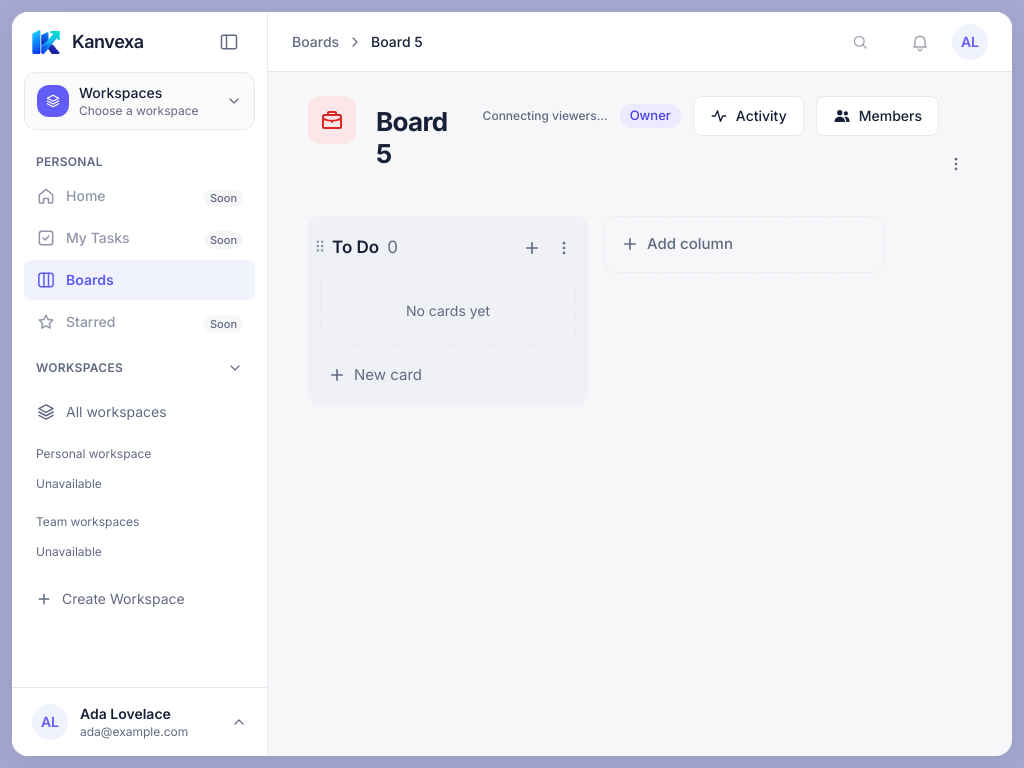
Test: adding cards › opens the composer from the column header too
Click the button named "Add a card to To Do" at coordinates (532, 248), box [516,232,548,264]
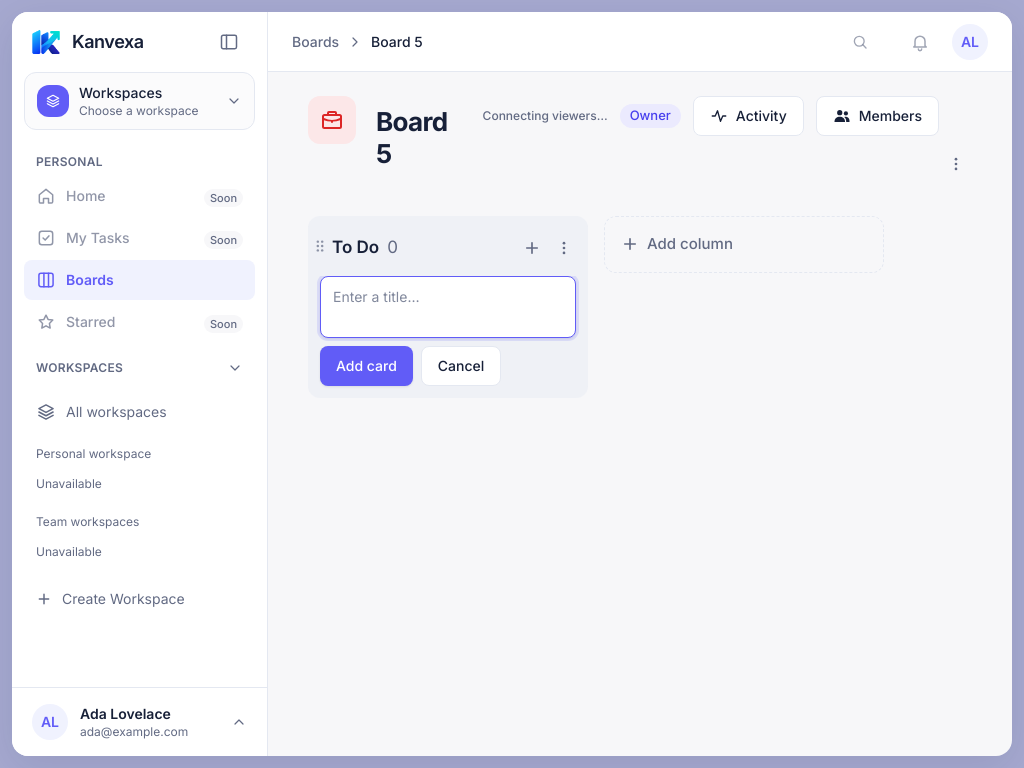
Now the text box named "Title of the new card in To Do" is shown, box [320,276,576,338]
